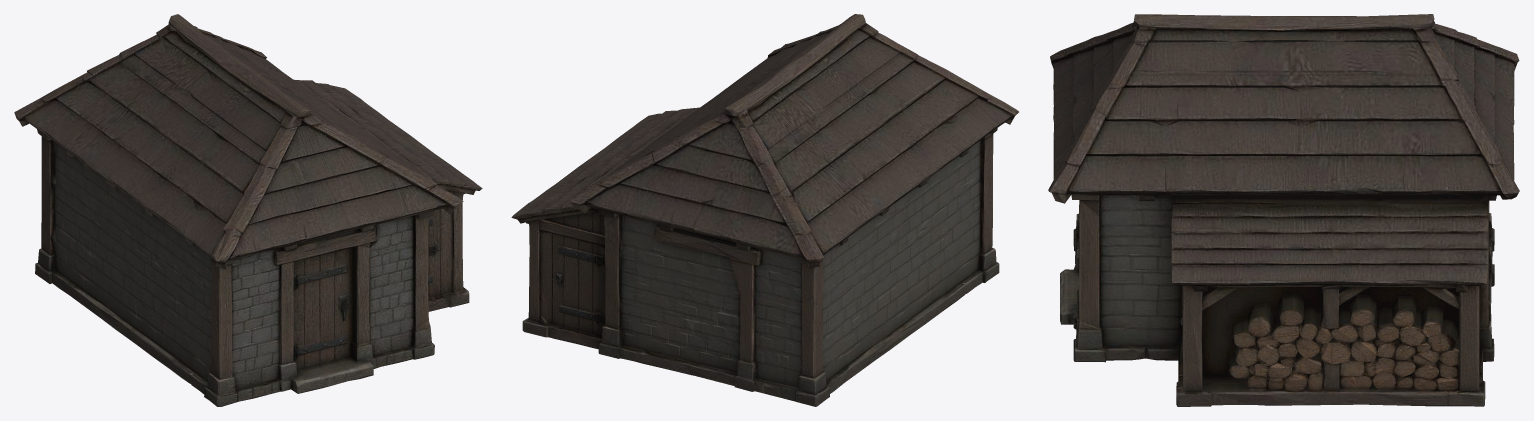
The model's file is bld_house_npc_g_a_LOD0.glb.
3 views of the same model, side by side, from view 1: azimuth 30°, elevation 25°; view 2: azimuth 150°, elevation 25°; view 3: azimuth 270°, elevation 25° (orthographic). The views are drawn at different scales.
Visible parts, largest first — view 1: tripo_mesh_5fb910e3-4311-4347-a8c1-cfe6681e0096; view 2: tripo_mesh_5fb910e3-4311-4347-a8c1-cfe6681e0096; view 3: tripo_mesh_5fb910e3-4311-4347-a8c1-cfe6681e0096.
Part boxes in pixels (bbox=[...]): tripo_mesh_5fb910e3-4311-4347-a8c1-cfe6681e0096: bbox=[14, 14, 482, 406]; tripo_mesh_5fb910e3-4311-4347-a8c1-cfe6681e0096: bbox=[511, 14, 1018, 406]; tripo_mesh_5fb910e3-4311-4347-a8c1-cfe6681e0096: bbox=[1048, 14, 1519, 406].
Bounding box in the file's own units: 6.65 × 5 × 7.4.
1 material, 1 textured.
